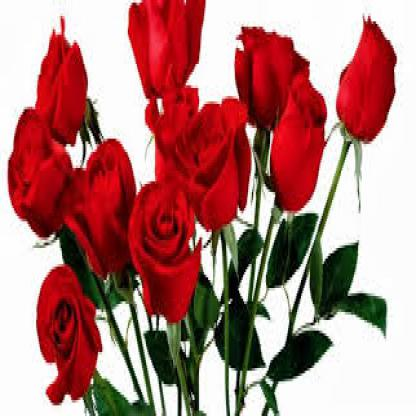Rose-Mawar: (6, 1, 411, 393)
